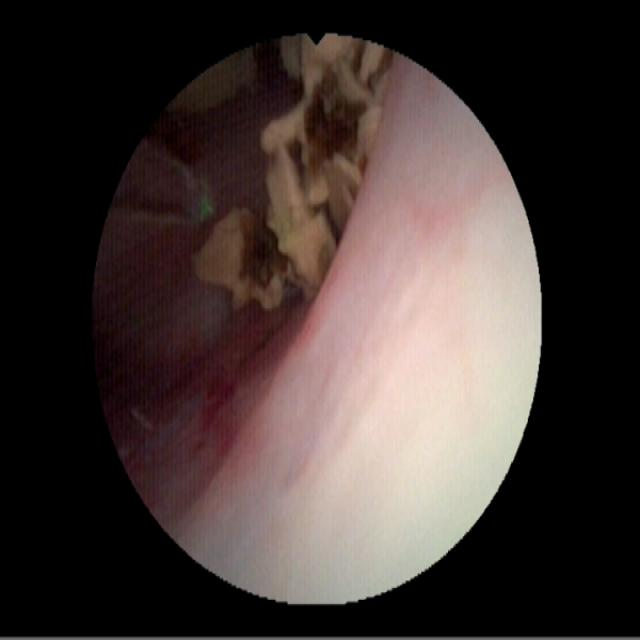stone: (193, 36, 384, 312), (176, 50, 254, 111)
tissue: (105, 74, 529, 597)
